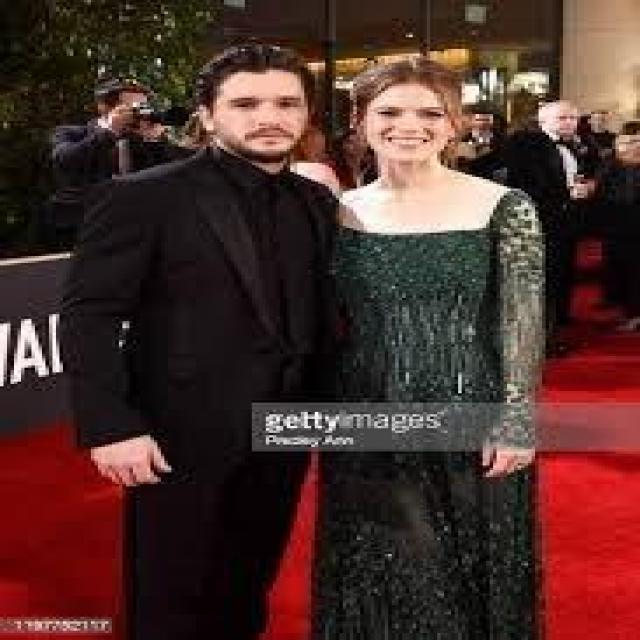person: (39, 21, 354, 638), (297, 49, 563, 638), (496, 84, 616, 398), (17, 68, 224, 230), (451, 107, 535, 184)
